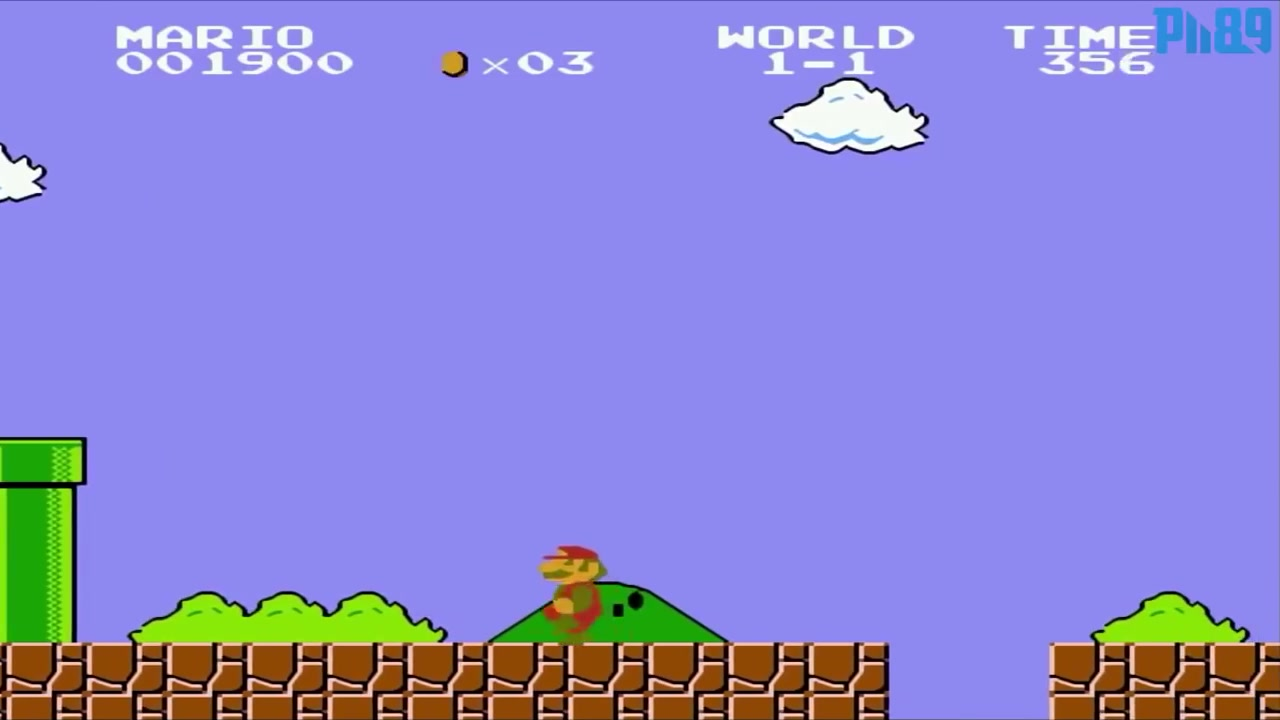mario: (520, 540, 610, 644)
